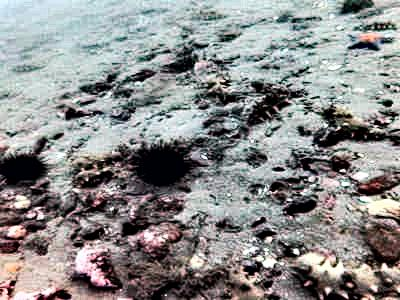urchin: (133, 143, 186, 186), (2, 152, 50, 184)
